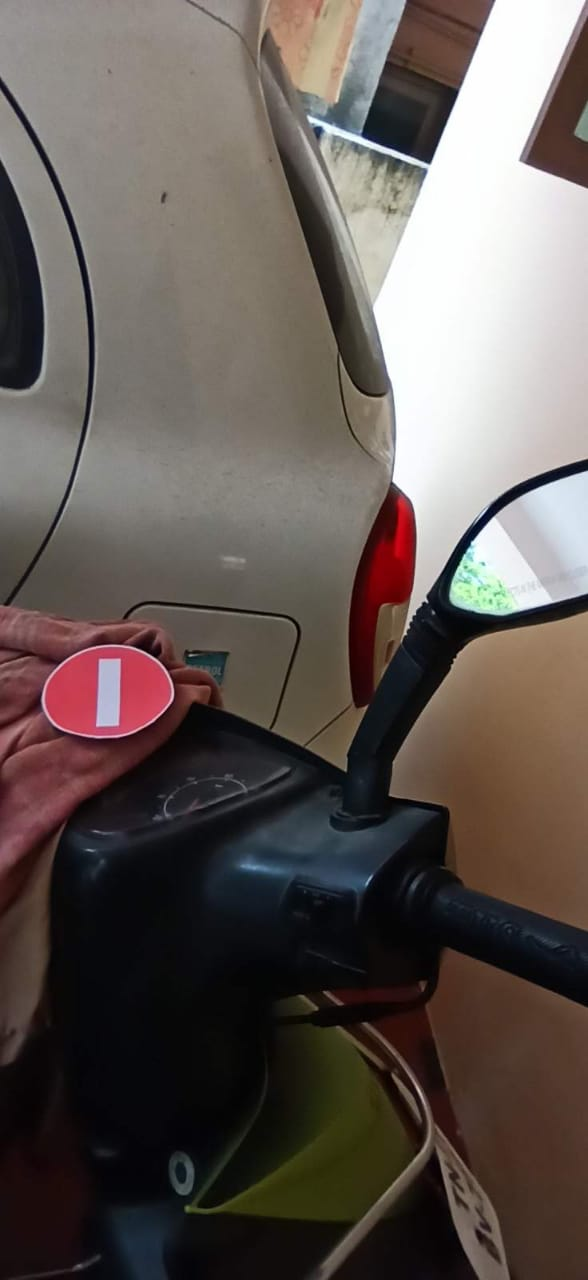NO ENTRY: (32, 603, 197, 748)
